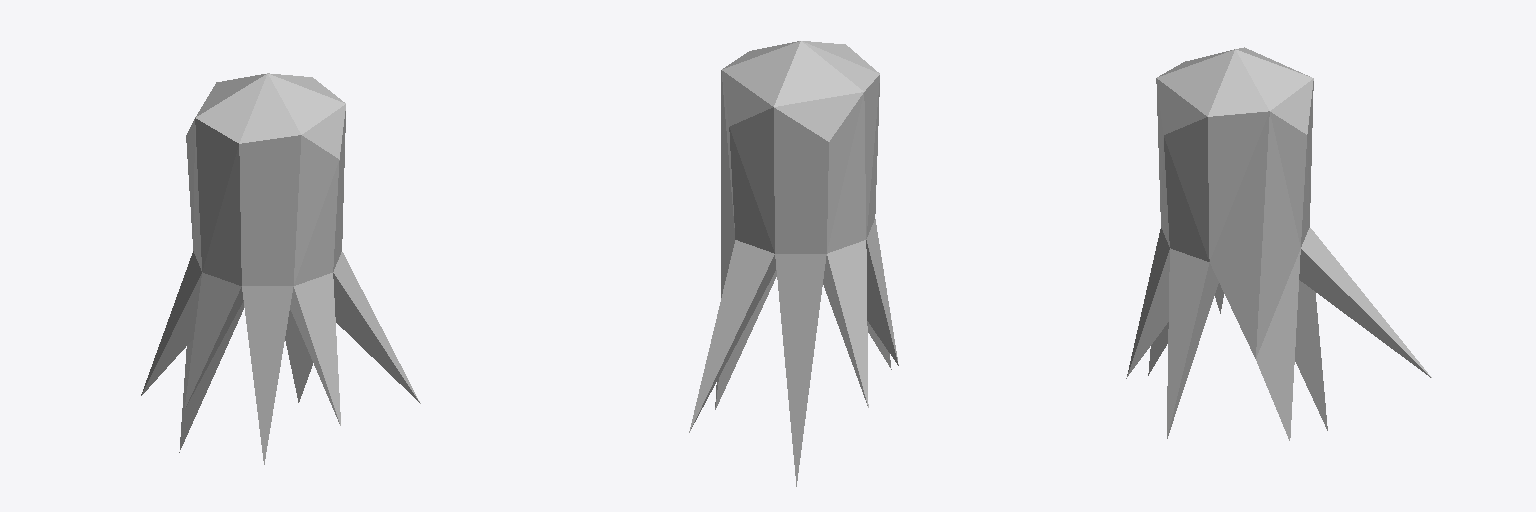
Rendered from SeguaroCactusSmall_LOD1.obj.
3 renders of one model, left to right at view 1: azimuth 30°, elevation 25°; view 2: azimuth 150°, elevation 25°; view 3: azimuth 270°, elevation 25°, orthographic.
Visible parts, largest first — view 1: SeguaroCactusSmall_LOD1; view 2: SeguaroCactusSmall_LOD1; view 3: SeguaroCactusSmall_LOD1.
Part boxes in pixels (x1,y1,x2,y2): SeguaroCactusSmall_LOD1: (141,73,420,464); SeguaroCactusSmall_LOD1: (689,41,898,486); SeguaroCactusSmall_LOD1: (1126,47,1431,440).
Bounding box in the file's own units: 36.75 × 65.48 × 45.19.